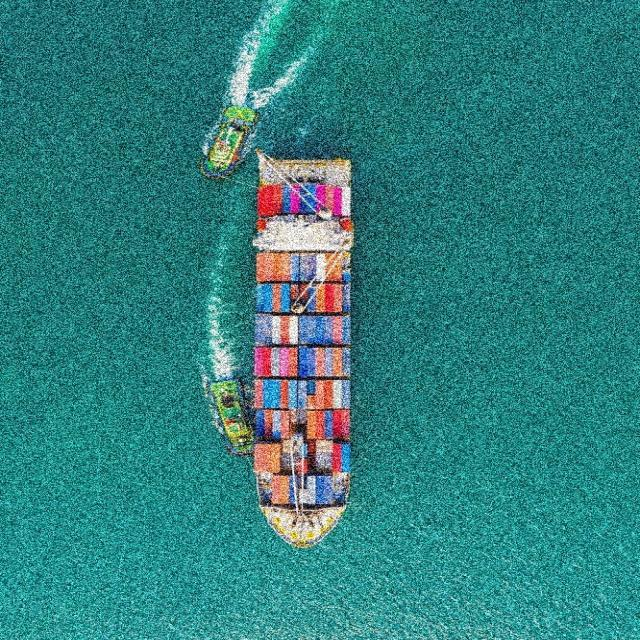ship2: (251, 159, 355, 550)
